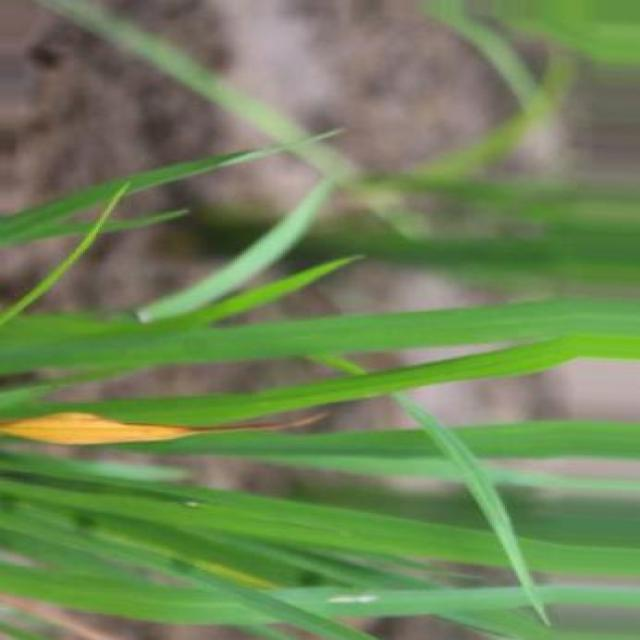Rice Tungro: (0, 412, 195, 444)
